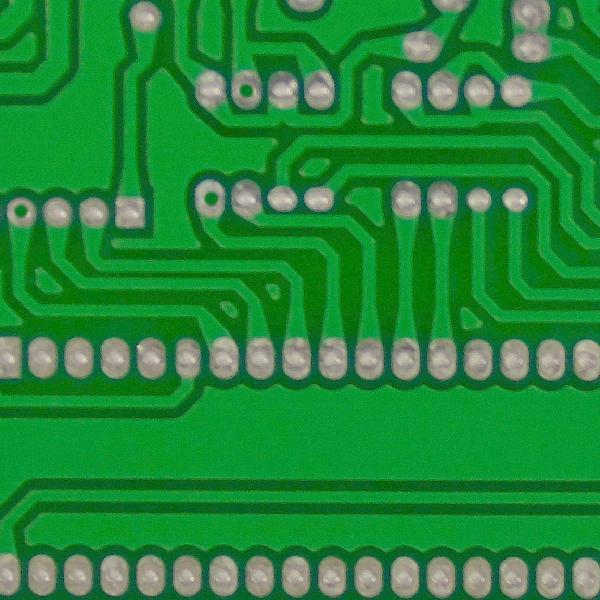missing_hole: (225, 68, 266, 111), (2, 196, 41, 233), (192, 177, 226, 219)
